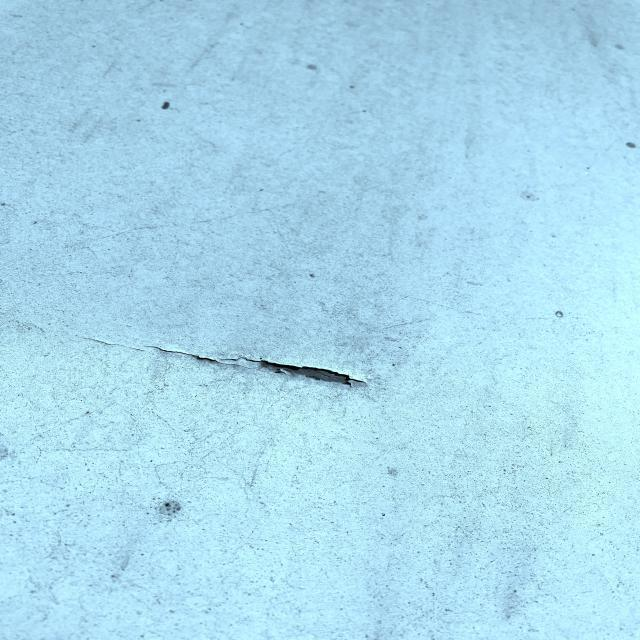crack: (91, 341, 391, 399)
